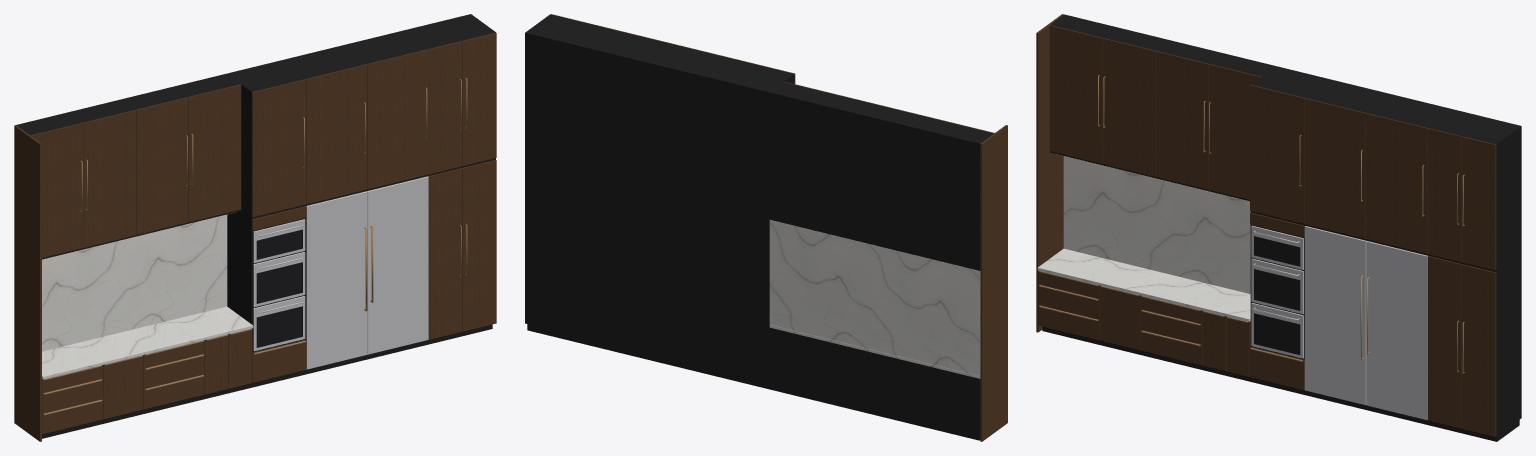
The model's file is kitchen_wall_run.gltf.
The picture shows the model from 3 angles, left to right: view 1: azimuth 30°, elevation 25°; view 2: azimuth 150°, elevation 25°; view 3: azimuth 330°, elevation 25°; orthographic projection.
Visible parts, largest first — view 1: KitchenWallRun_Backsplash, KitchenWallRun_Fridge1_Door, KitchenWallRun_Fridge0_Door, KitchenWallRun_EndPanel, KitchenWallRun_FridgeUpper1_Door, KitchenWallRun_FridgeUpper0_Door, KitchenWallRun_OvenUpper_Door, KitchenWallRun_Upper1_DoorR, KitchenWallRun_Upper1_DoorL, KitchenWallRun_Upper0_DoorR, KitchenWallRun_oven_Body, KitchenWallRun_Pantry_DoorL (+26 smaller); view 2: KitchenWallRun_fridge_Body, KitchenWallRun_Upper_Body, KitchenWallRun_Backsplash, KitchenWallRun_pantry_Body, KitchenWallRun_oven_Body, KitchenWallRun_Counter_Body, KitchenWallRun_EndPanel, KitchenWallRun_Plinth, KitchenWallRun_Counter_Top; view 3: KitchenWallRun_Backsplash, KitchenWallRun_Fridge0_Door, KitchenWallRun_Fridge1_Door, KitchenWallRun_pantry_Body, KitchenWallRun_FridgeUpper1_Door, KitchenWallRun_FridgeUpper0_Door, KitchenWallRun_OvenUpper_Door, KitchenWallRun_Upper0_DoorR, KitchenWallRun_Upper1_DoorL, KitchenWallRun_Upper0_DoorL, KitchenWallRun_Pantry_DoorR, KitchenWallRun_Counter_Top (+26 smaller).
Part boxes in pixels (box(x1,y1,x2,y2)): KitchenWallRun_Backsplash: box(42, 214, 227, 351); KitchenWallRun_Fridge1_Door: box(367, 176, 428, 354); KitchenWallRun_Fridge0_Door: box(306, 191, 367, 369); KitchenWallRun_EndPanel: box(14, 125, 41, 441); KitchenWallRun_FridgeUpper1_Door: box(367, 49, 428, 188); KitchenWallRun_FridgeUpper0_Door: box(306, 64, 367, 203); KitchenWallRun_OvenUpper_Door: box(252, 79, 306, 217); KitchenWallRun_Upper1_DoorR: box(188, 84, 241, 221); KitchenWallRun_Upper1_DoorL: box(136, 97, 188, 234); KitchenWallRun_Upper0_DoorR: box(83, 110, 135, 247); KitchenWallRun_oven_Body: box(227, 60, 305, 352); KitchenWallRun_Pantry_DoorL: box(428, 168, 462, 339); KitchenWallRun_fridge_Body: box(593, 31, 739, 369); KitchenWallRun_Upper_Body: box(769, 82, 993, 270); KitchenWallRun_Backsplash: box(769, 220, 980, 375); KitchenWallRun_pantry_Body: box(525, 14, 617, 339); KitchenWallRun_oven_Body: box(715, 61, 794, 382); KitchenWallRun_Counter_Body: box(769, 327, 980, 434); KitchenWallRun_EndPanel: box(980, 125, 1007, 441); KitchenWallRun_Plinth: box(527, 324, 980, 440); KitchenWallRun_Counter_Top: box(769, 325, 980, 378); KitchenWallRun_Backsplash: box(1063, 156, 1250, 293); KitchenWallRun_Fridge0_Door: box(1304, 226, 1366, 405); KitchenWallRun_Fridge1_Door: box(1366, 241, 1427, 419); KitchenWallRun_pantry_Body: box(1428, 109, 1521, 436); KitchenWallRun_FridgeUpper1_Door: box(1366, 113, 1427, 253); KitchenWallRun_FridgeUpper0_Door: box(1304, 98, 1366, 238); KitchenWallRun_OvenUpper_Door: box(1250, 85, 1304, 223); KitchenWallRun_Upper0_DoorR: box(1102, 38, 1155, 176); KitchenWallRun_Upper1_DoorL: box(1155, 51, 1208, 189); KitchenWallRun_Upper0_DoorL: box(1049, 25, 1102, 163); KitchenWallRun_Pantry_DoorR: box(1461, 264, 1496, 436); KitchenWallRun_Counter_Top: box(1037, 248, 1250, 321).
Size of the model in its own units: 6.73 by 4.19 by 0.7074.
Materials: 7 (2 with a texture image).
